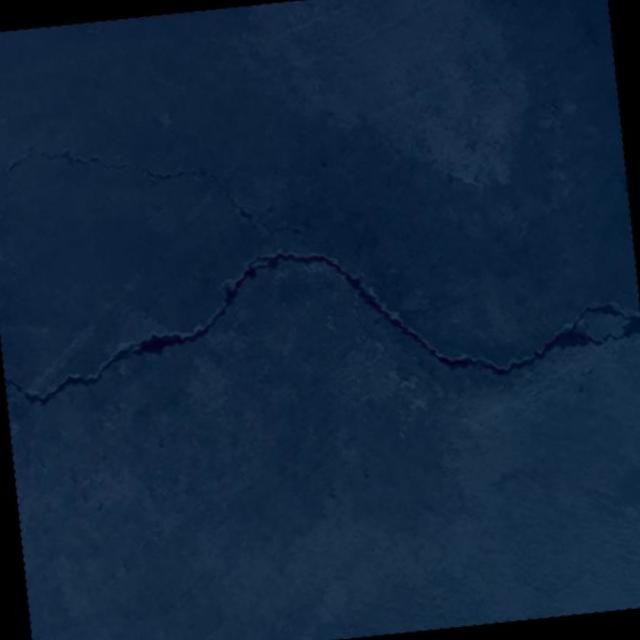crack: (0, 216, 640, 429), (0, 118, 327, 279)
